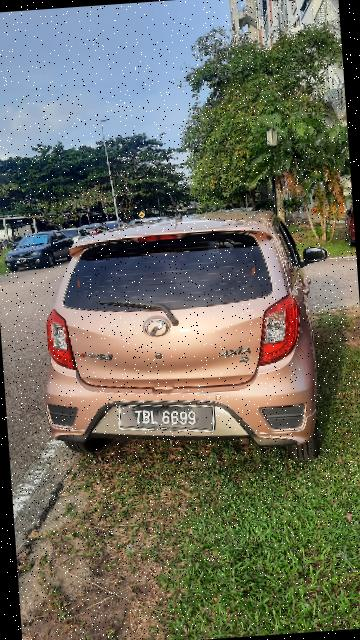License_Plate: (111, 389, 222, 447)
car: (21, 210, 326, 486)
